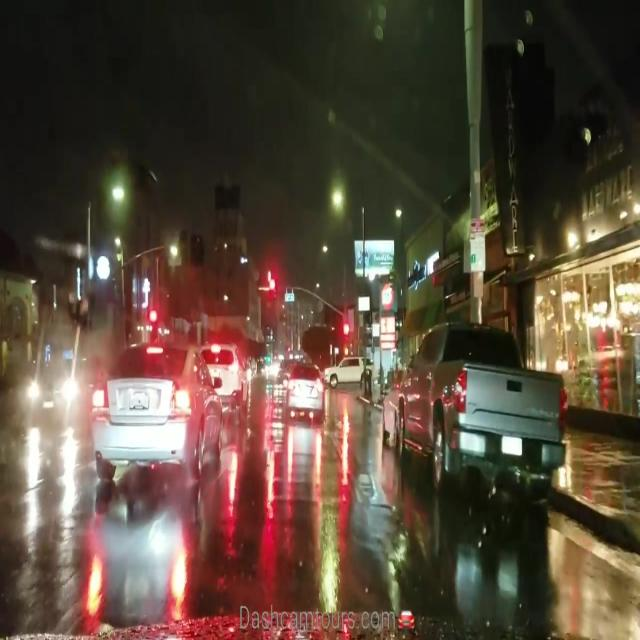Car: (396, 320, 565, 494), (83, 346, 222, 486), (25, 364, 78, 426), (282, 354, 328, 425), (208, 343, 244, 417)
